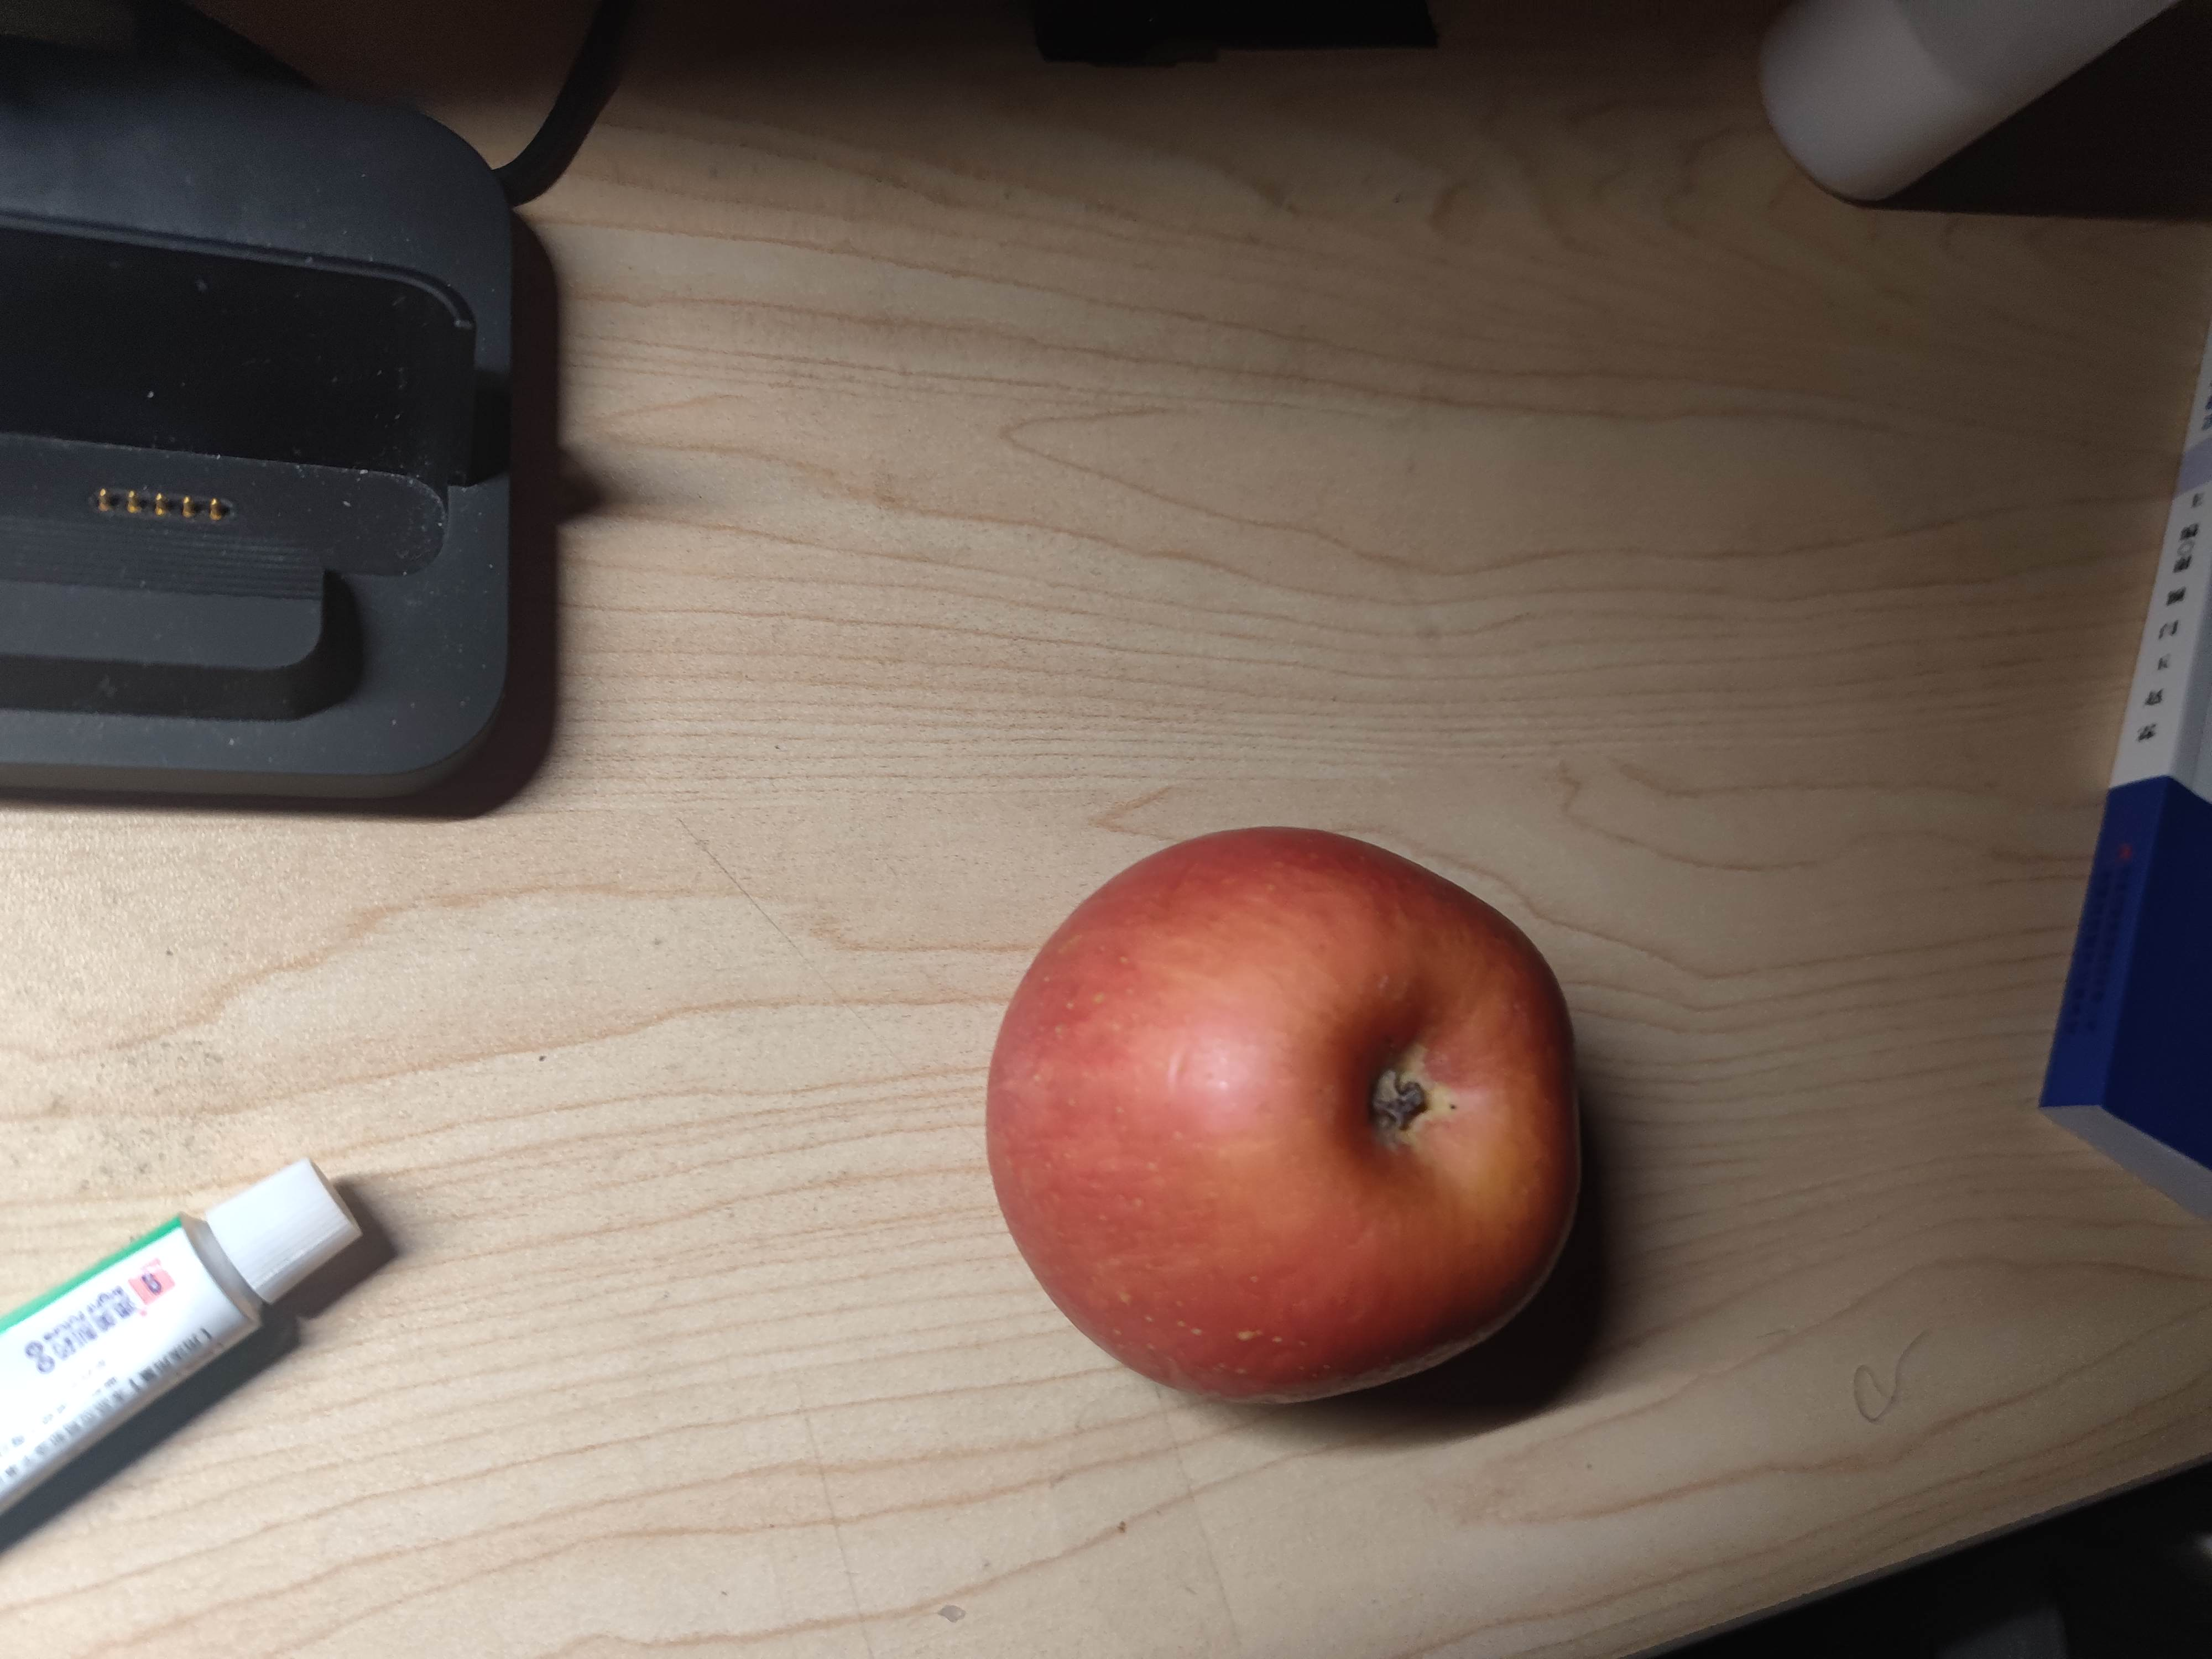apple: (988, 831, 1594, 1403)
